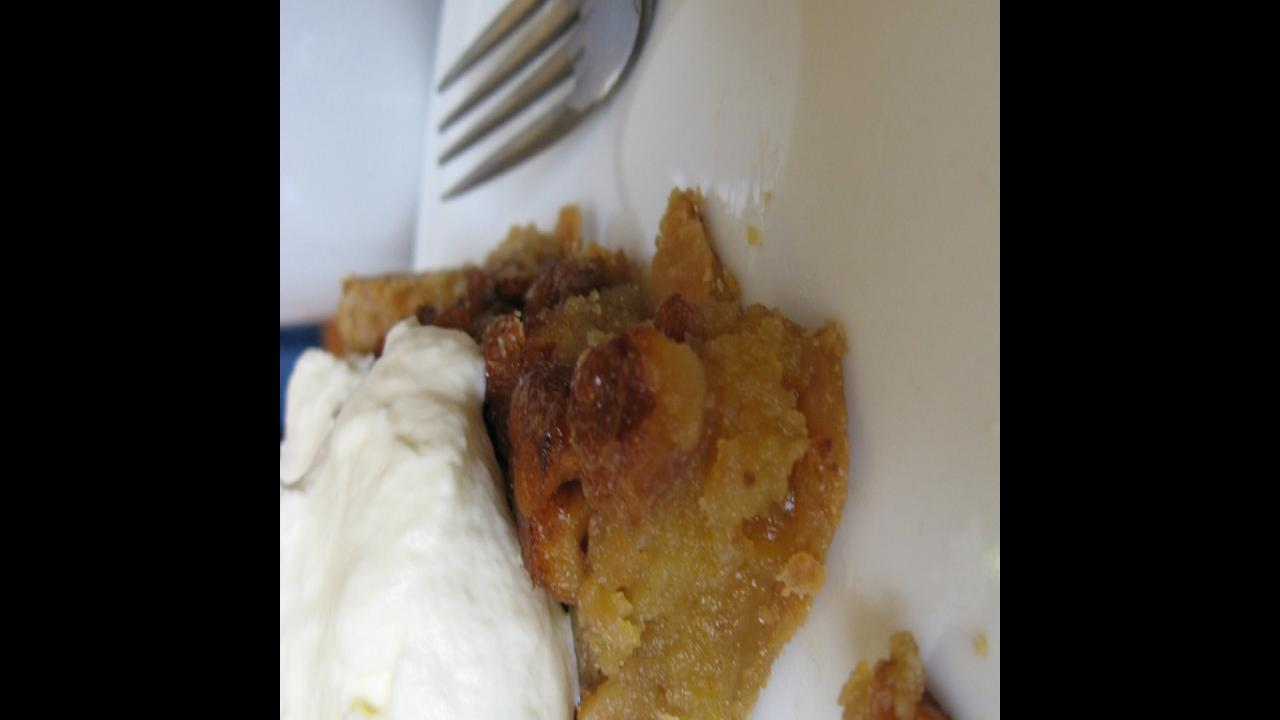fork: (431, 0, 677, 209)
